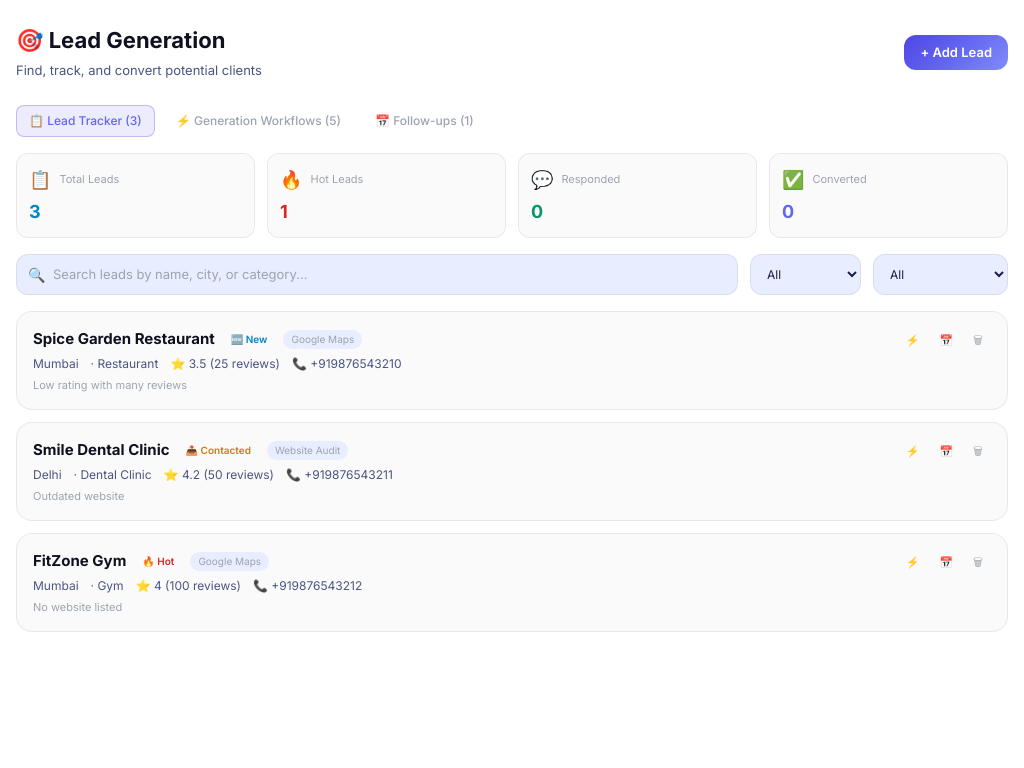
Test: LeadsTab › follow-ups › shows leads with follow-up dates or hot/warm status
Click the button "📅 Follow-ups (1)": [424, 120] box top-left (362, 104), bottom-right (487, 136)
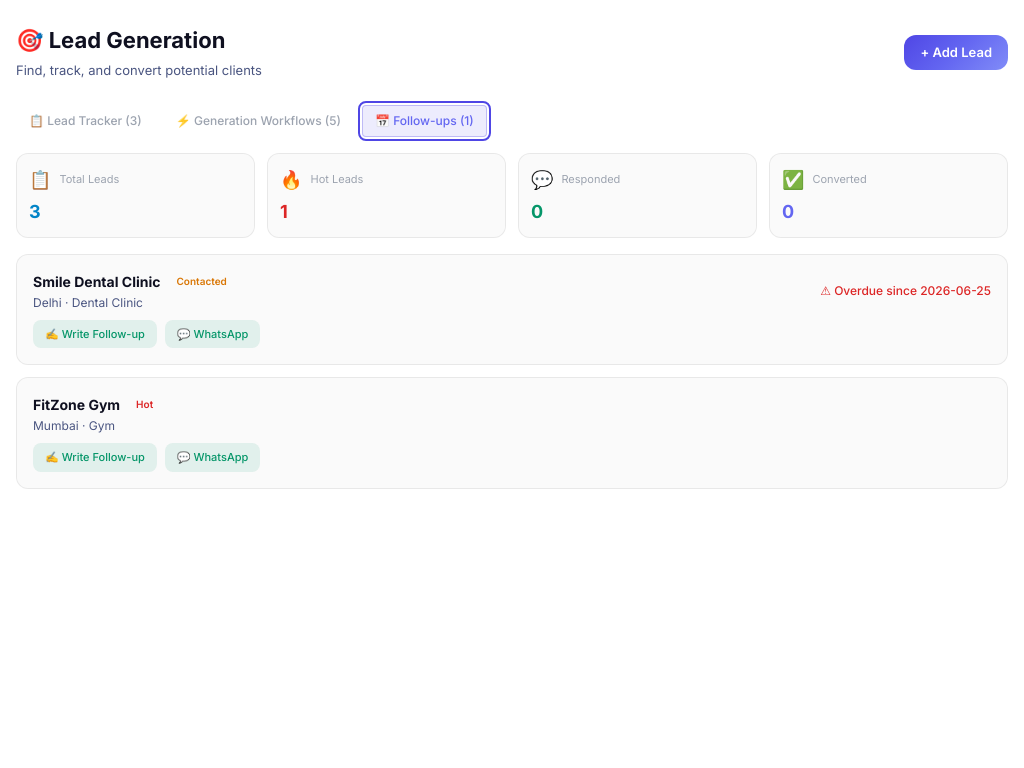
Expected: the heading "Smile Dental Clinic" is shown, top-left (33, 270), bottom-right (160, 292)
Now the heading "Spice Garden Restaurant" is gone
